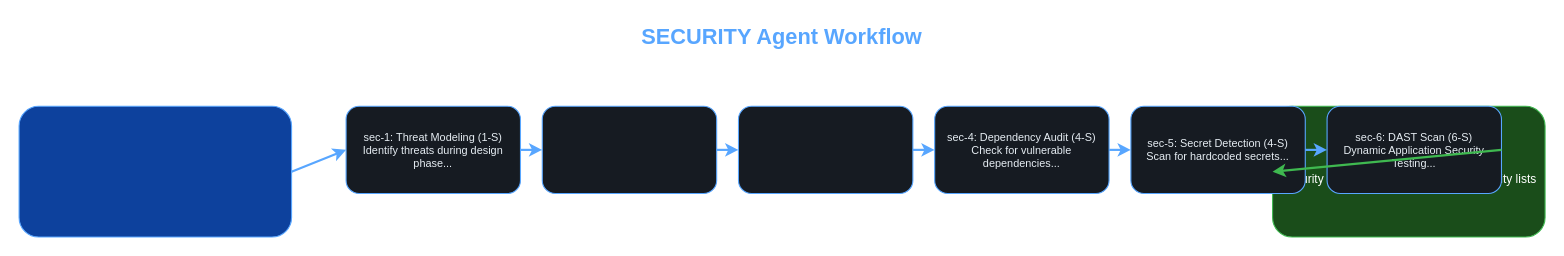
This 1564x256 diagram has some shape labels left out. Each missing label, with the box of its shape:
Inputs: Design/Architecture/Code/Deployed app: (18, 105, 292, 237)
sec-2: Security Architecture (2-S) Review security architecture...: (541, 105, 717, 193)
sec-3: SAST Scan (4-S) Static Application Security Testing...: (737, 105, 913, 193)
